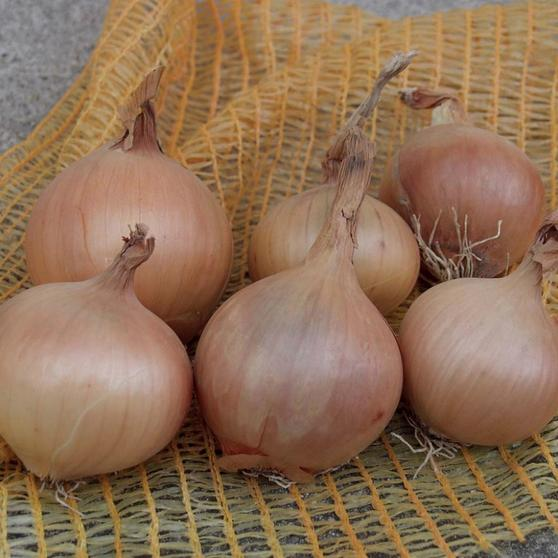onion: (198, 254, 405, 476), (6, 276, 195, 484), (32, 139, 235, 318), (405, 263, 554, 461)
